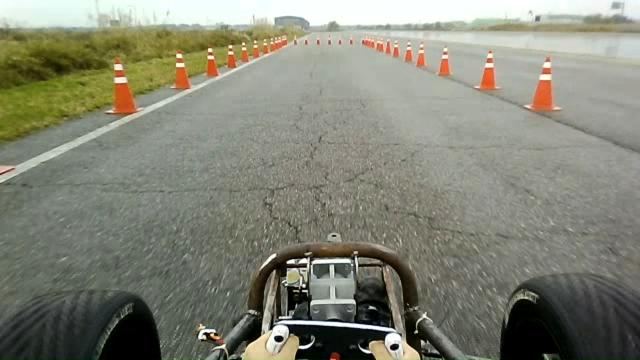red cone: (104, 57, 143, 114), (523, 56, 562, 112), (474, 49, 501, 91), (170, 49, 192, 89), (437, 45, 452, 76), (204, 46, 219, 77), (225, 44, 237, 68), (416, 41, 426, 67), (404, 39, 413, 63), (240, 41, 249, 62), (252, 38, 260, 58), (392, 39, 400, 57), (385, 38, 392, 55)
